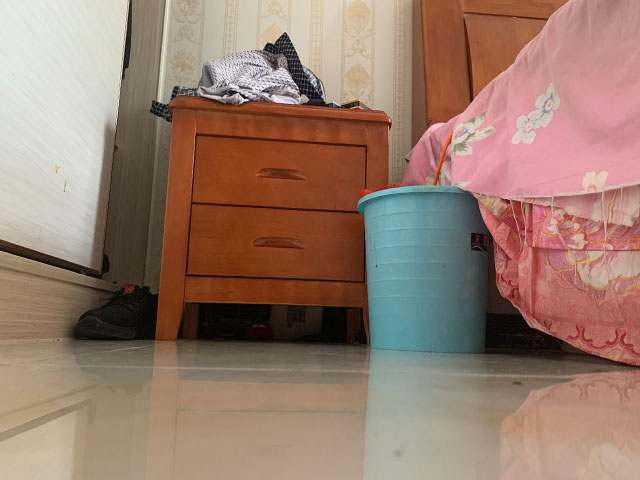bed: (399, 1, 640, 368)
cabinet: (154, 96, 394, 346)
trashcan: (355, 184, 490, 354)
